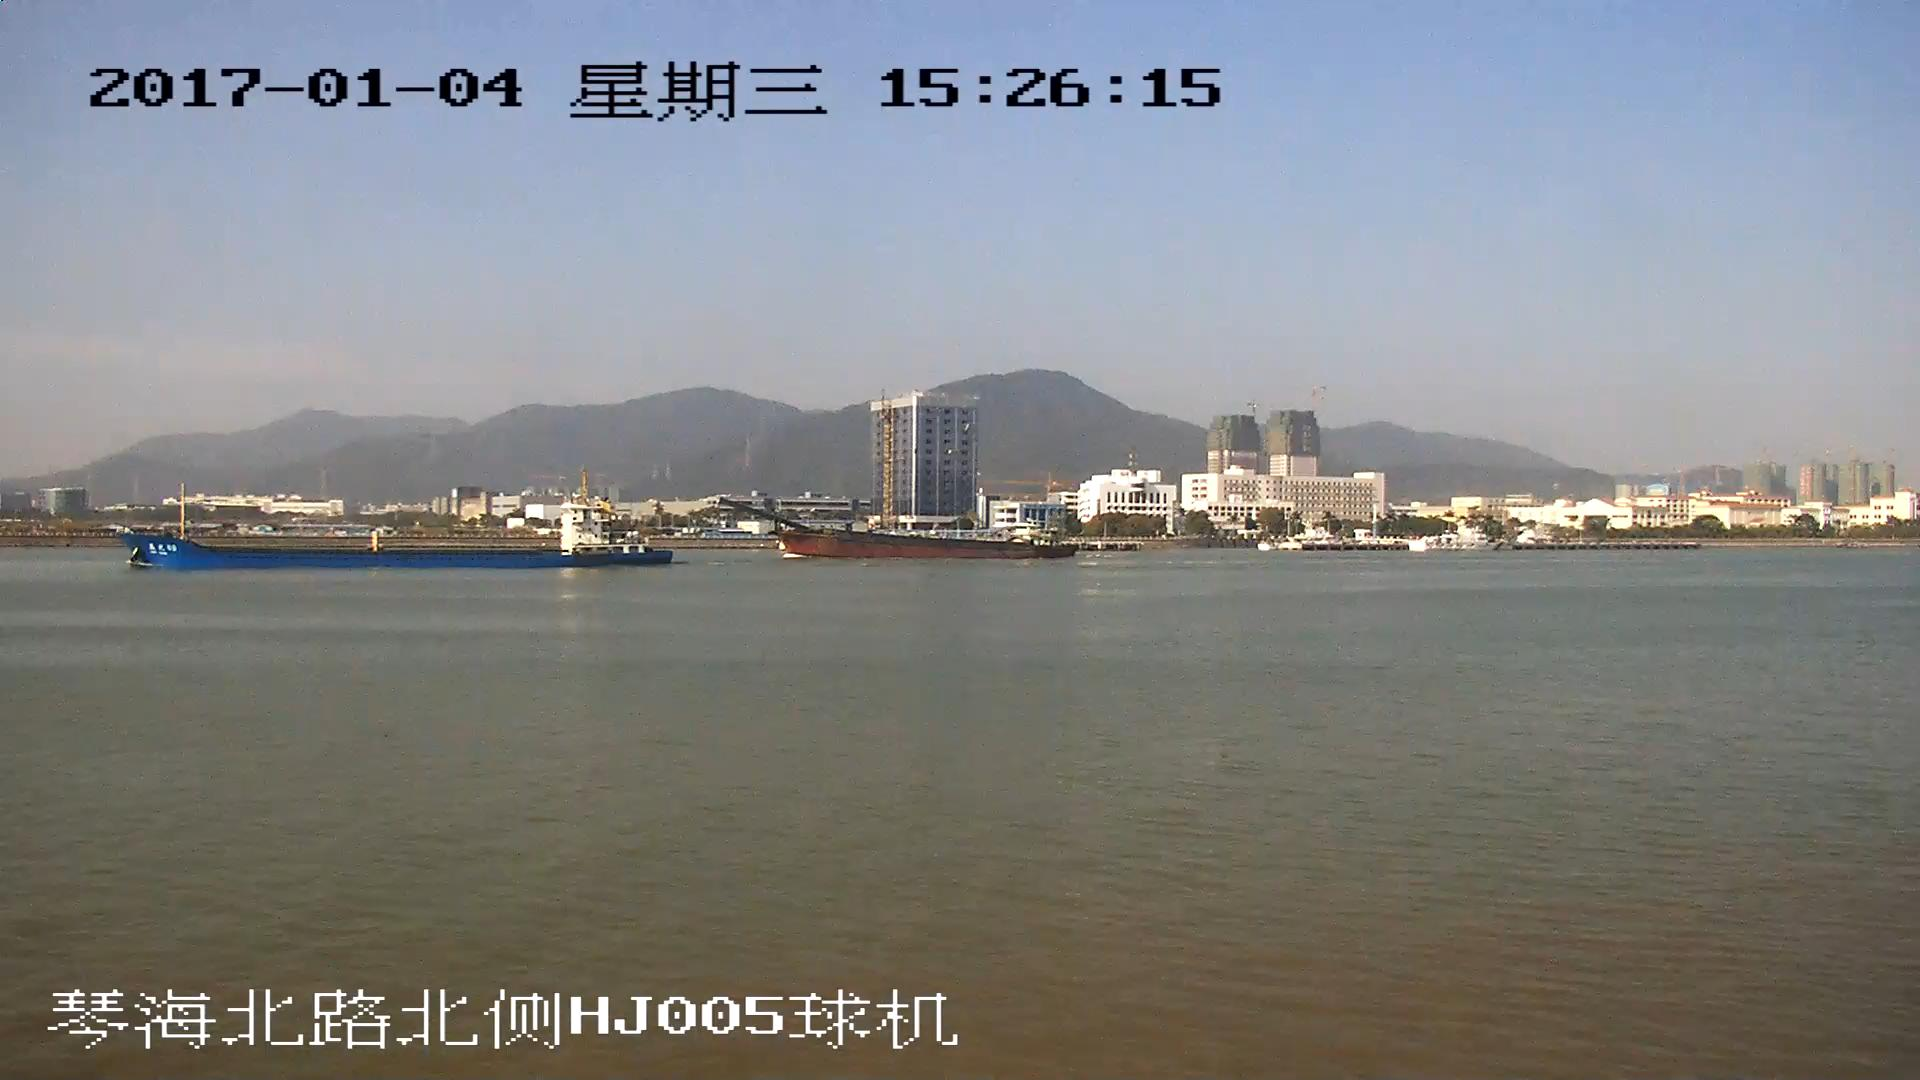bulk cargo carrier: (719, 499, 1070, 562)
general cargo ship: (117, 483, 670, 565)
